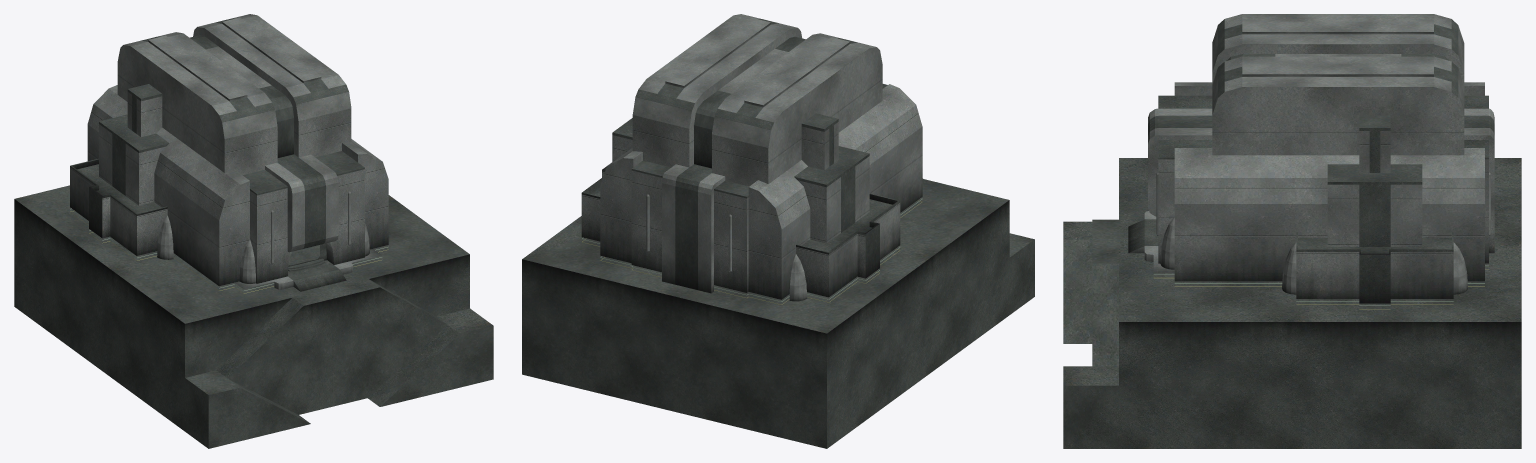
The model's file is ply_corl_cantina_s01_r0_exterior_mesh_l1.fbx.
3 views of the same model, side by side, from view 1: azimuth 30°, elevation 25°; view 2: azimuth 150°, elevation 25°; view 3: azimuth 270°, elevation 25° (orthographic). The views are drawn at different scales.
Visible parts, largest first — view 1: mesh_node; view 2: mesh_node; view 3: mesh_node.
Part boxes in pixels (x1,y1,x2,y2): mesh_node: (14,14,493,448); mesh_node: (522,14,1034,448); mesh_node: (1063,14,1521,448).
Bounding box in the file's own units: 36.98 × 33.54 × 43.68.
